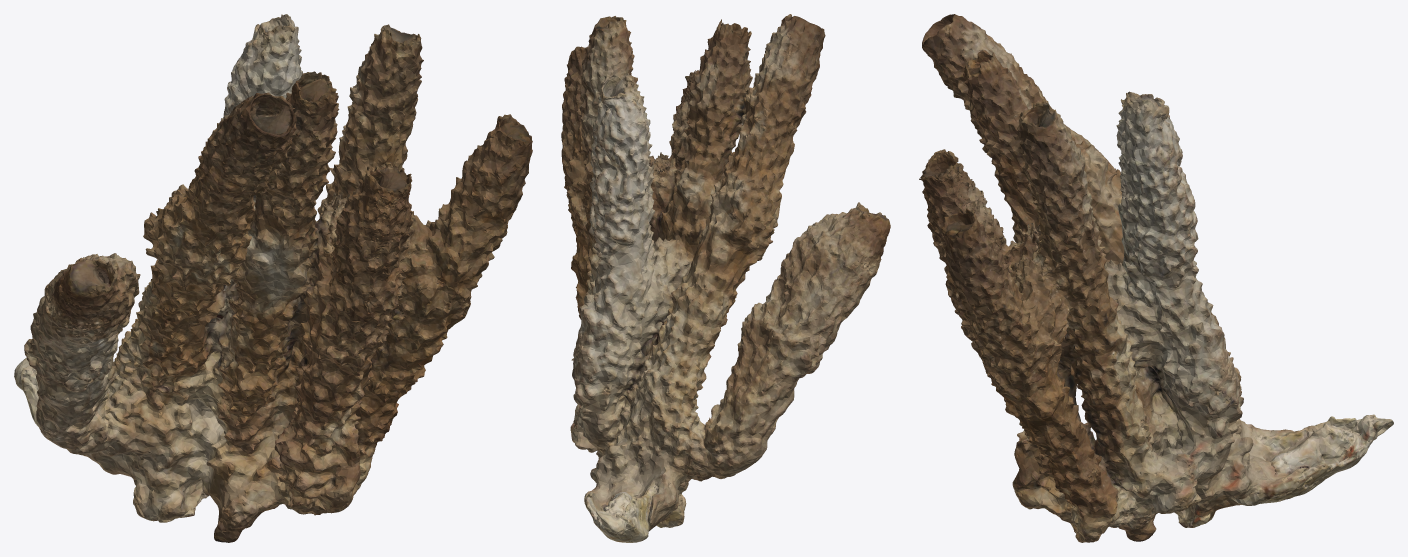
File: sponge.glb
3 renders of one model, left to right at view 1: azimuth 30°, elevation 25°; view 2: azimuth 150°, elevation 25°; view 3: azimuth 270°, elevation 25°, orthographic. The views are drawn at different scales.
Parts seen in each view (by area): view 1: Object_2; view 2: Object_2; view 3: Object_2.
Boxes of the visible parts, bbox=[...] form: Object_2: bbox=[14, 14, 532, 542]; Object_2: bbox=[561, 14, 890, 542]; Object_2: bbox=[919, 14, 1393, 542].
Bounding box in the file's own units: 0.8308 × 0.9998 × 0.8657.
Materials: 1 (1 with a texture image).
